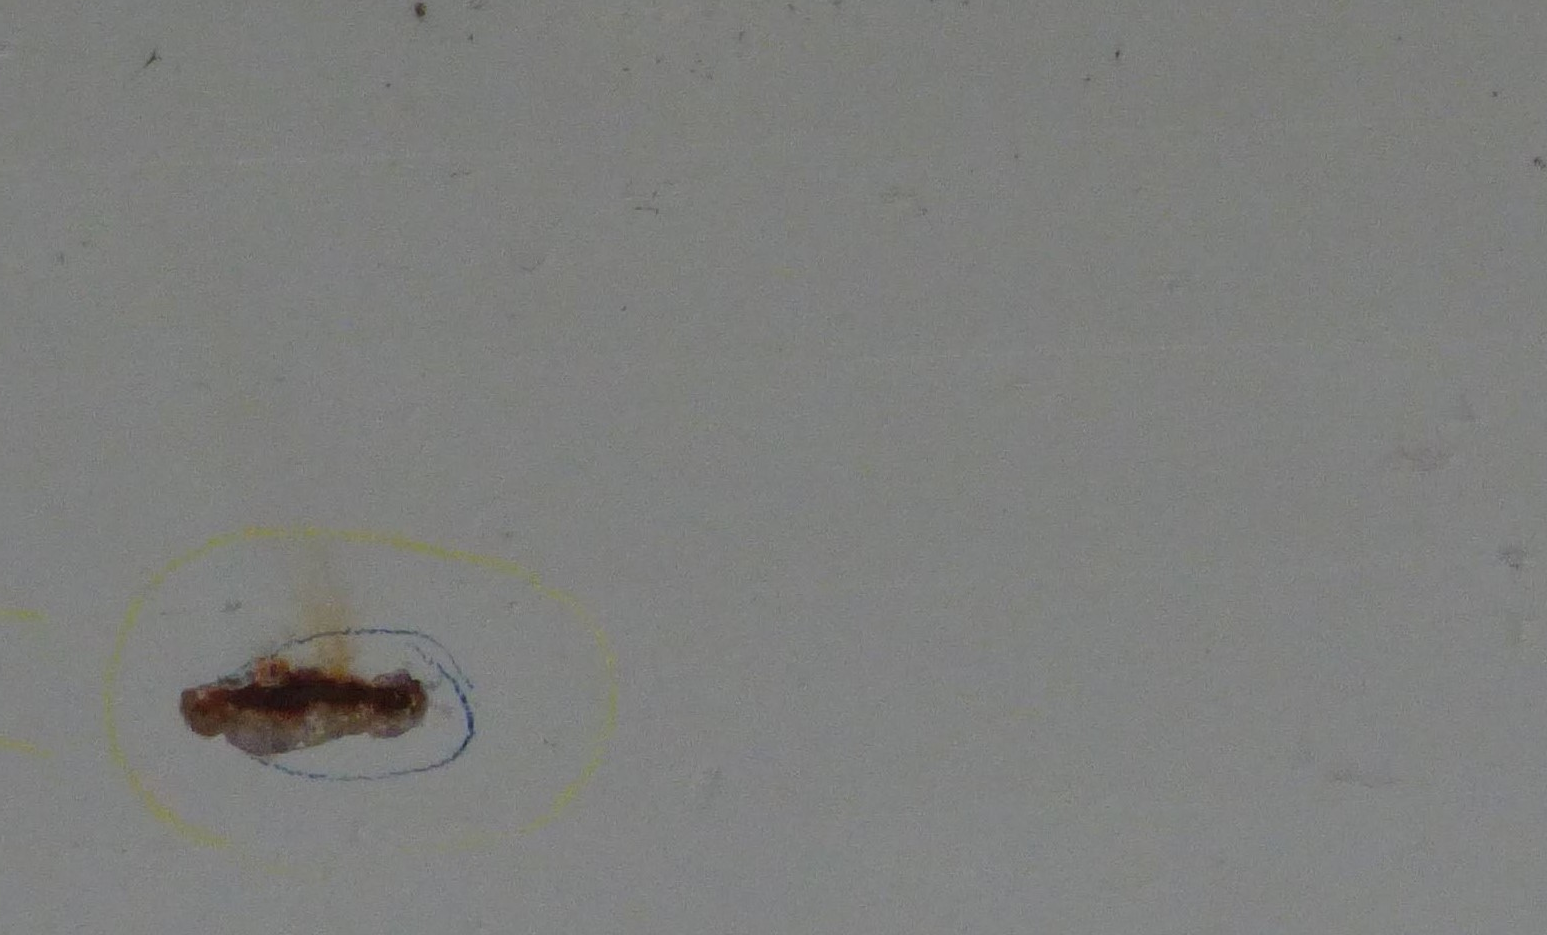Exposed reinforcement: (223, 684, 412, 713)
Spalling: (179, 668, 430, 757)
